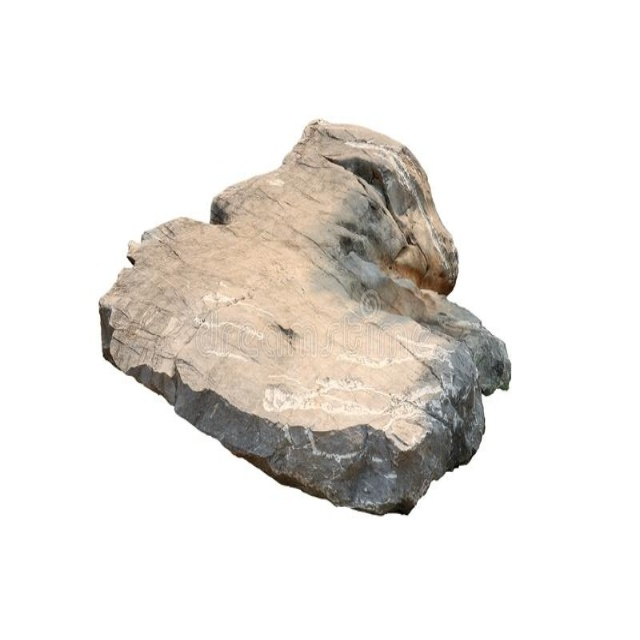obstacle: (100, 121, 510, 513)
